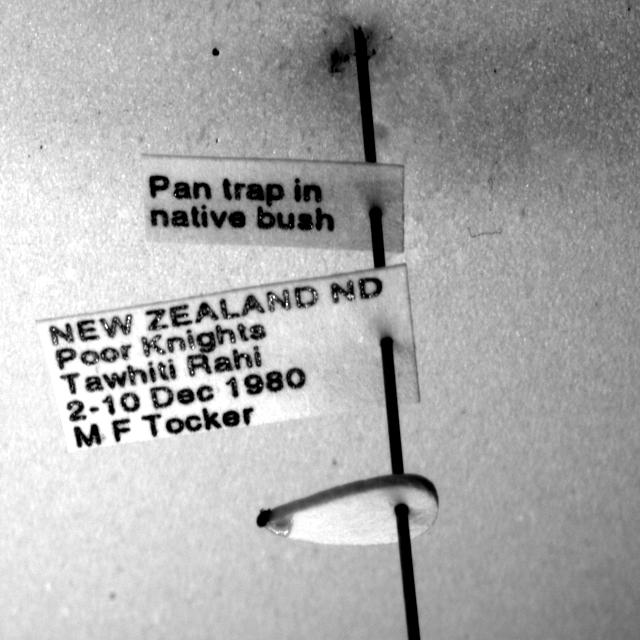typed_label: (38, 264, 419, 450), (142, 156, 404, 253)
